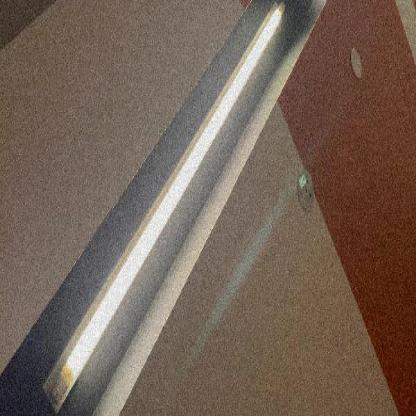light_on: (37, 0, 295, 415)
